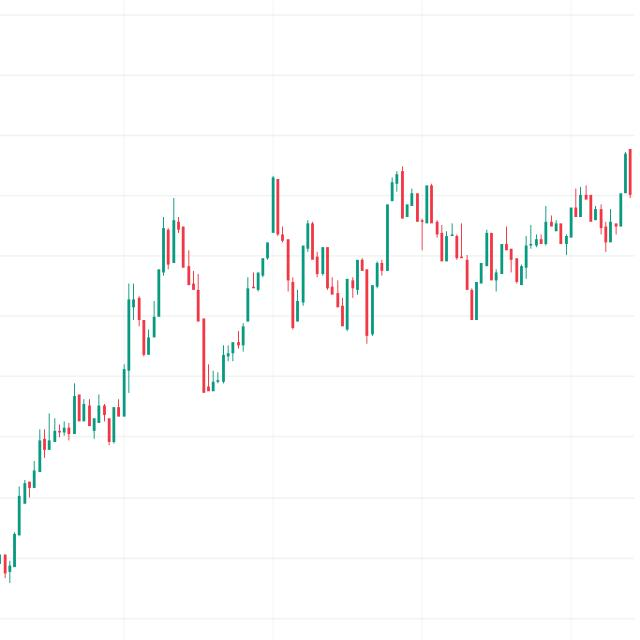Triple-Bottom: (279, 227, 393, 340)
